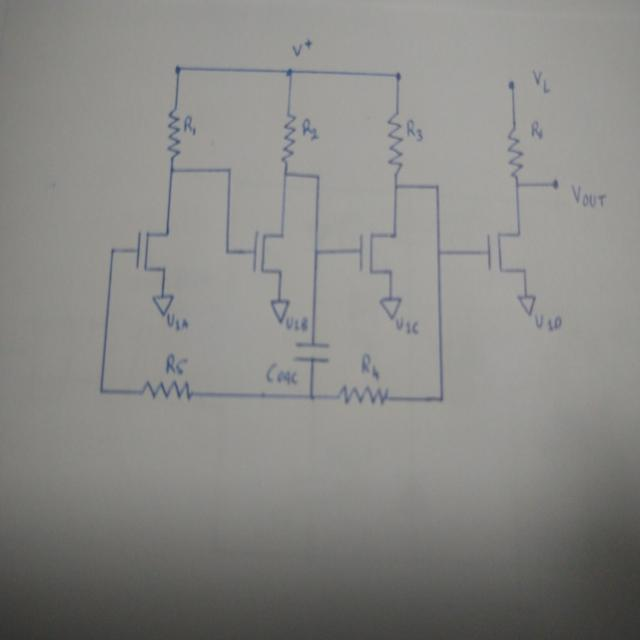capacitor: (293, 339, 329, 365)
ground: (516, 293, 537, 317), (152, 291, 172, 316), (270, 299, 289, 324)
junction: (434, 247, 445, 261), (285, 66, 295, 79), (512, 181, 523, 192), (393, 69, 402, 81), (224, 245, 232, 258), (174, 63, 183, 74), (308, 391, 317, 402), (437, 392, 444, 402), (433, 181, 440, 191), (392, 181, 400, 189), (168, 165, 175, 174), (226, 165, 233, 174), (98, 386, 105, 395), (111, 245, 117, 255), (282, 170, 289, 178), (314, 174, 320, 182), (313, 248, 318, 257)
resistor: (337, 384, 389, 408), (141, 379, 194, 402), (386, 110, 404, 174), (506, 129, 524, 180), (280, 112, 296, 162), (166, 106, 180, 161)
terminal: (378, 296, 402, 320), (550, 177, 562, 192), (507, 78, 517, 91)
text: (569, 183, 607, 210), (265, 362, 297, 386), (360, 351, 382, 380), (534, 312, 564, 331), (165, 352, 188, 375), (530, 70, 552, 94), (395, 315, 420, 335), (301, 117, 321, 142), (291, 37, 313, 59), (286, 315, 308, 333), (406, 119, 423, 142), (167, 316, 188, 332), (183, 114, 198, 136), (531, 120, 543, 139)
transistor: (482, 226, 532, 277), (357, 226, 403, 279), (250, 229, 288, 276), (134, 229, 172, 273)
